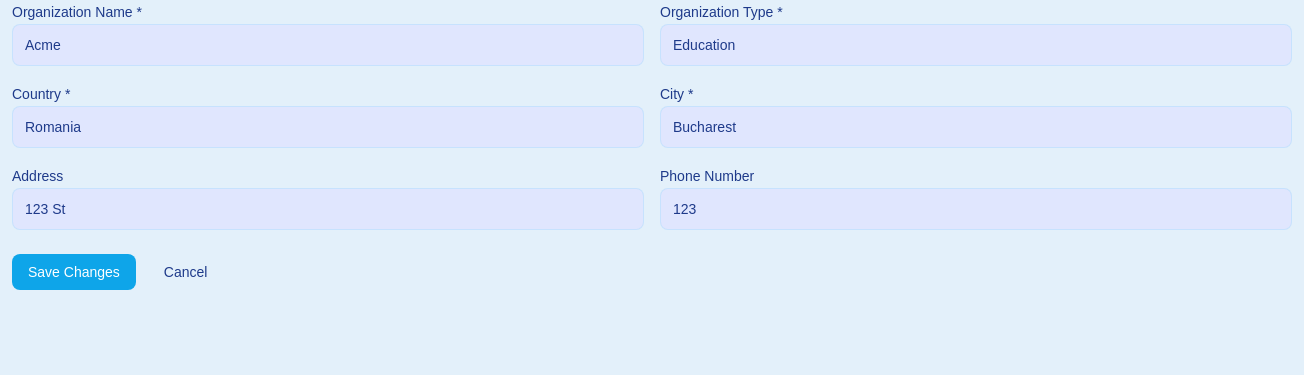
Test: OrganizationInlineEditForm › shows success message after save
The image size is (1304, 375).
What coordinates should you click on to do the following:
click the button "Save Changes"
I would click on:
 (74, 272)
Its box is [12,254,136,290].
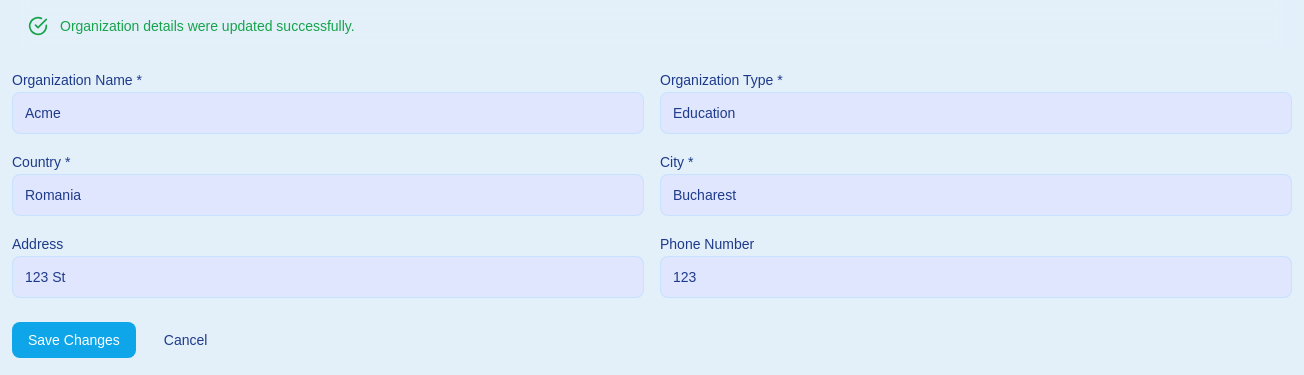
Now the text "Organization details were updated successfully." is shown, box [60,16,355,36]
